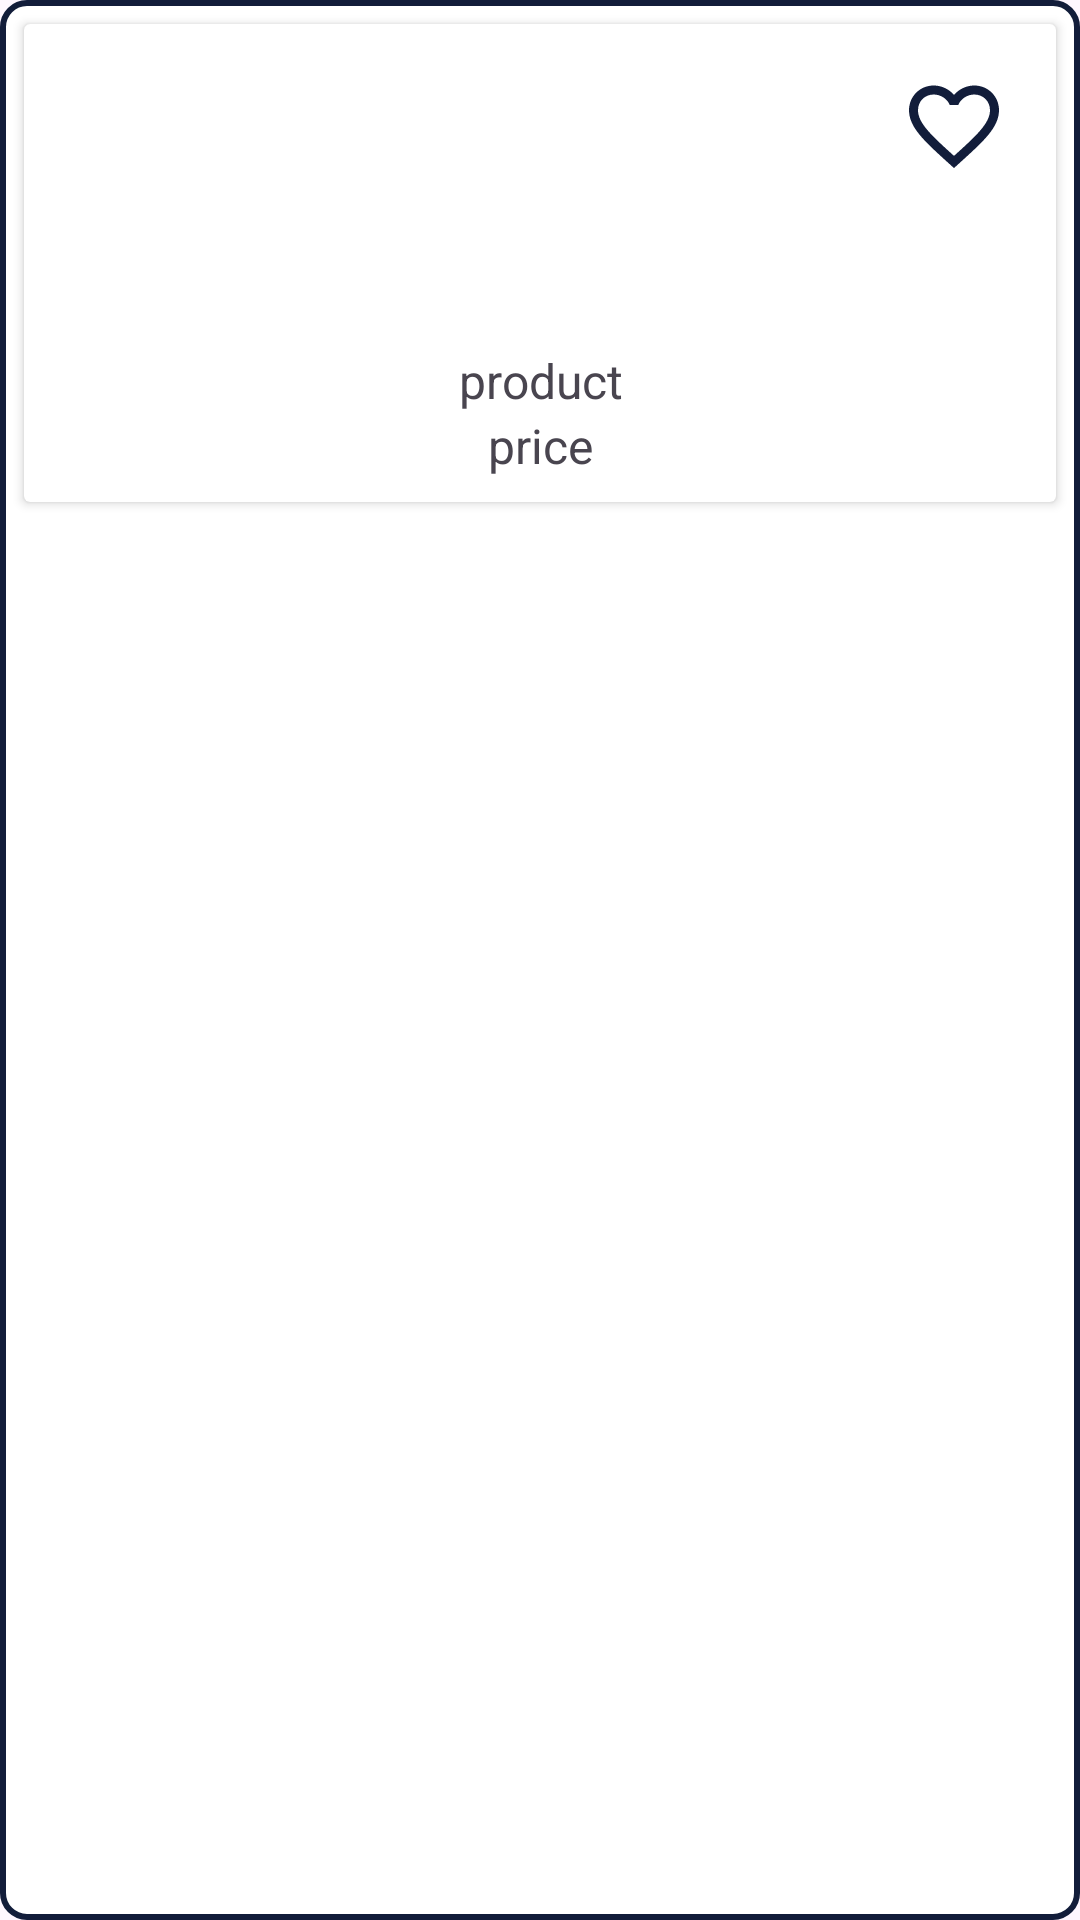

Icons on this 1080 x 1920 Android screen, each with the point to tap as (x,y):
favorite: (954,126)
